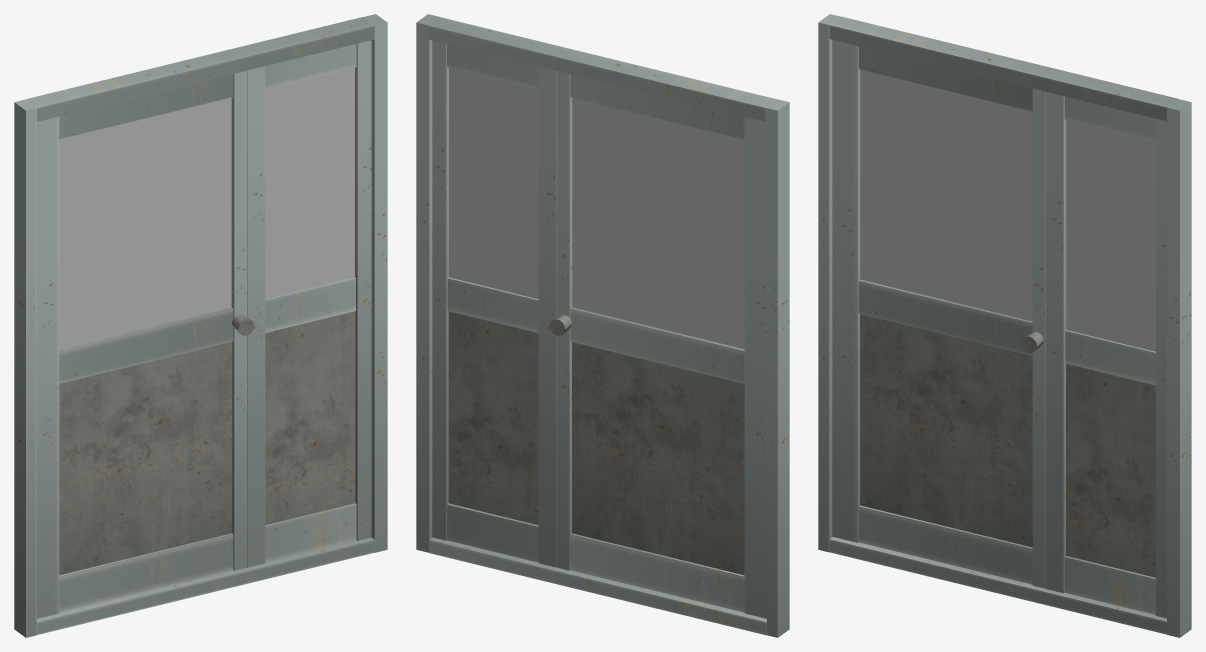
The model's file is bil_door1o.fbx.
3 renders of one model, left to right at view 1: azimuth 30°, elevation 25°; view 2: azimuth 150°, elevation 25°; view 3: azimuth 330°, elevation 25°, orthographic.
Parts seen in each view (by area): view 1: bil_door1o_a, bil_door1o_b, bil_door1o_c; view 2: bil_door1o_a, bil_door1o_b, bil_door1o_c; view 3: bil_door1o_a, bil_door1o_b, bil_door1o_c.
Boxes of the visible parts, box(x1,y1,x2,y2) form: bil_door1o_a: box(37, 70, 254, 618); bil_door1o_b: box(247, 40, 371, 567); bil_door1o_c: box(14, 14, 387, 637); bil_door1o_a: box(549, 71, 766, 618); bil_door1o_b: box(432, 40, 556, 567); bil_door1o_c: box(416, 14, 789, 637); bil_door1o_a: box(832, 40, 1045, 588); bil_door1o_b: box(1045, 92, 1166, 618); bil_door1o_c: box(818, 14, 1191, 637).
Size of the model in its own units: 190 by 265 by 19.38.
